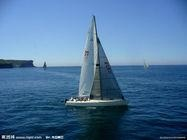fanchuan: (62, 13, 137, 110)
